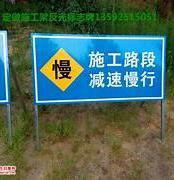sign: (35, 33, 165, 103)
